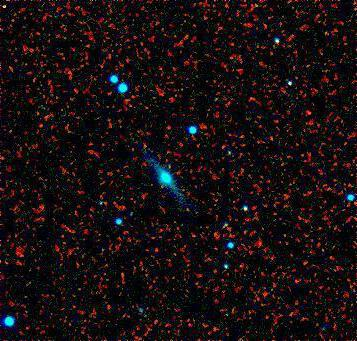star: (0, 0, 21, 22)
